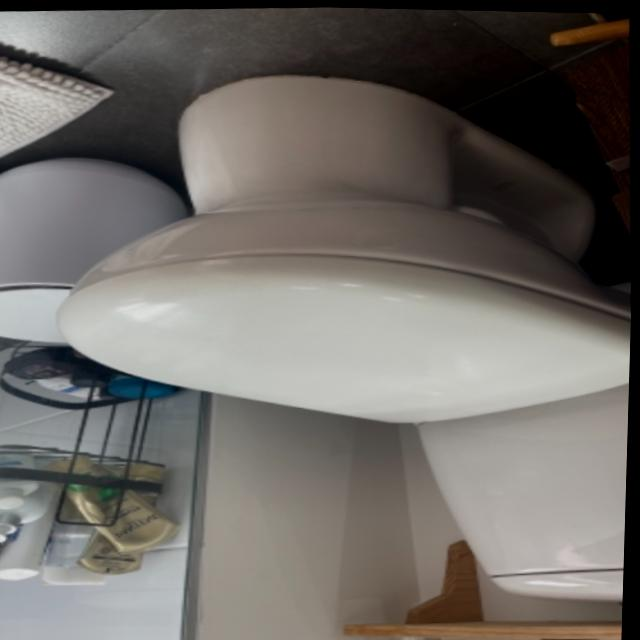toilet: (42, 57, 639, 621)
